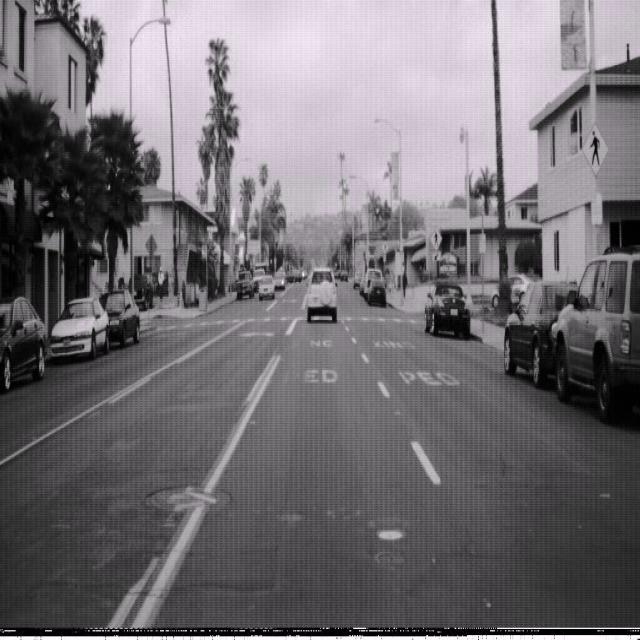pedestrianCrossing: (582, 119, 610, 178), (429, 225, 443, 252)
